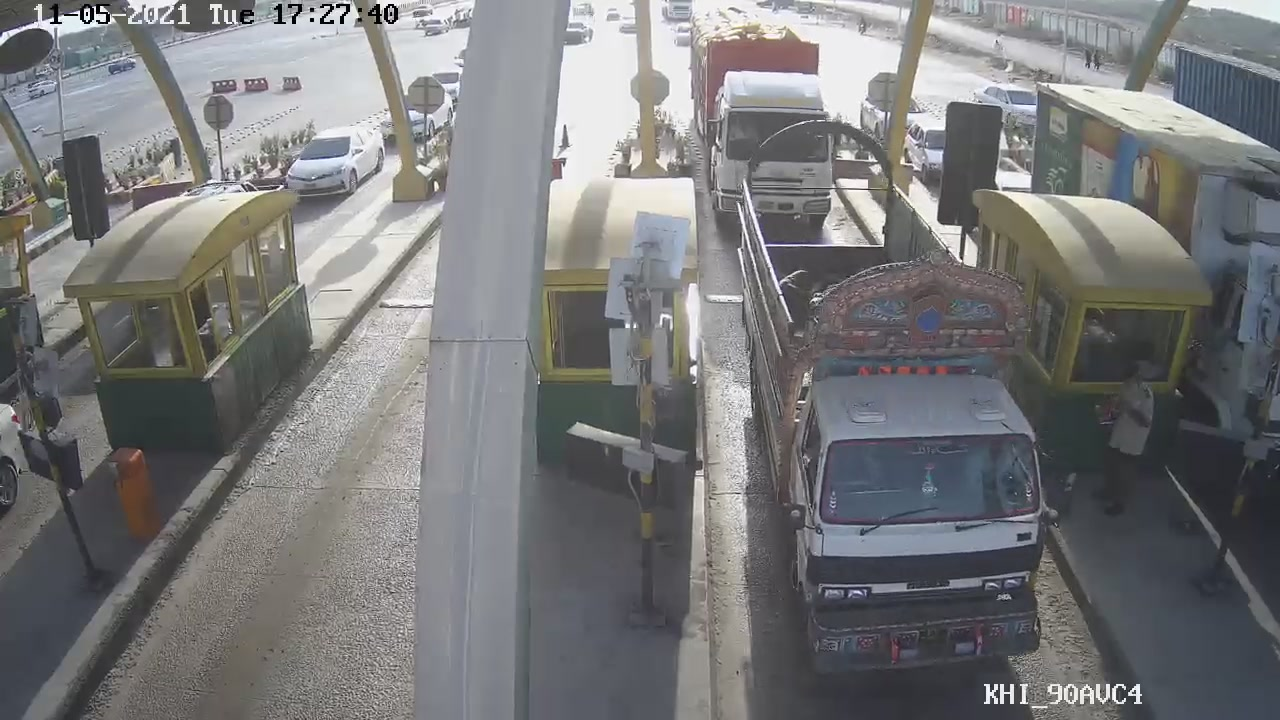F5: (732, 200, 1085, 685)
